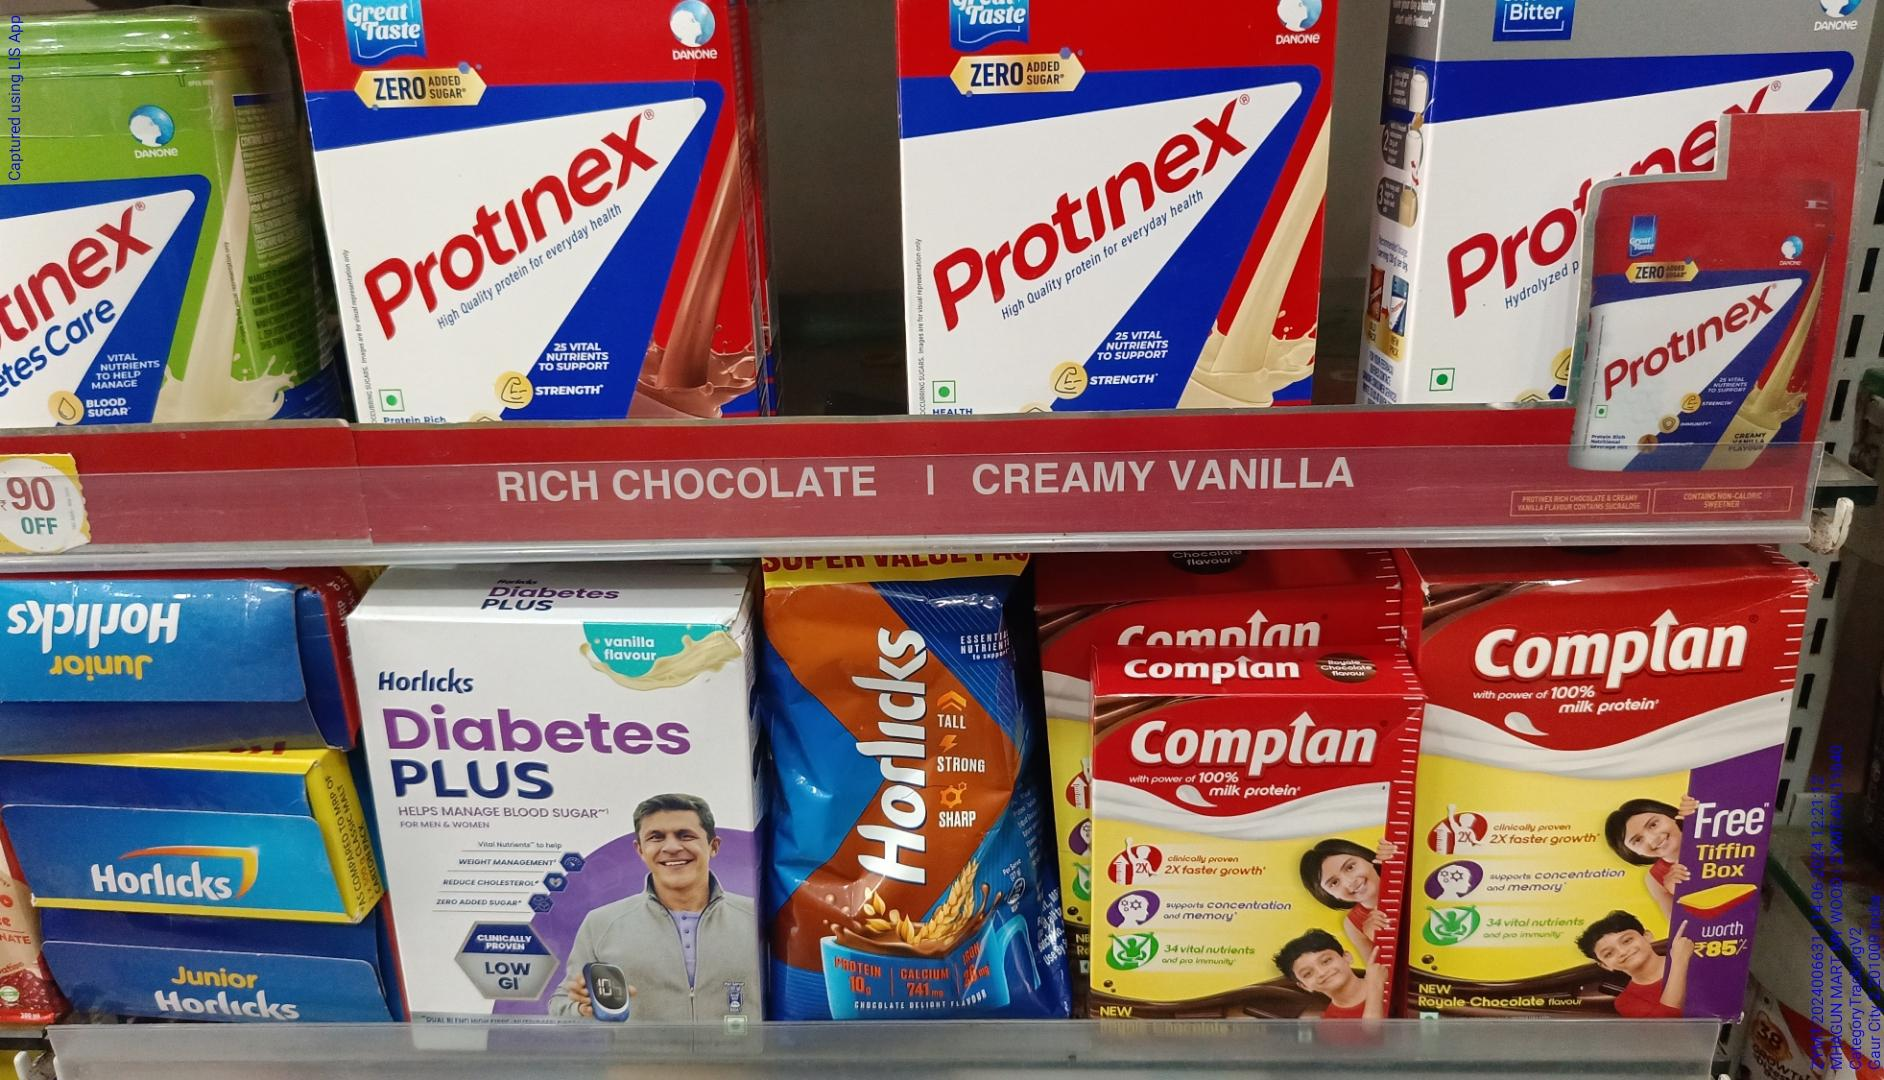COMPLAN_CHOCOLATE_200_GMS_PACK: (1090, 687, 1396, 1031)
COMPLAN_CHOCOLATE_500_GMS_PACK: (1418, 573, 1756, 1024)
HORLICK_CHOCOLATE_750_G_POUCH: (765, 554, 1035, 1032)
